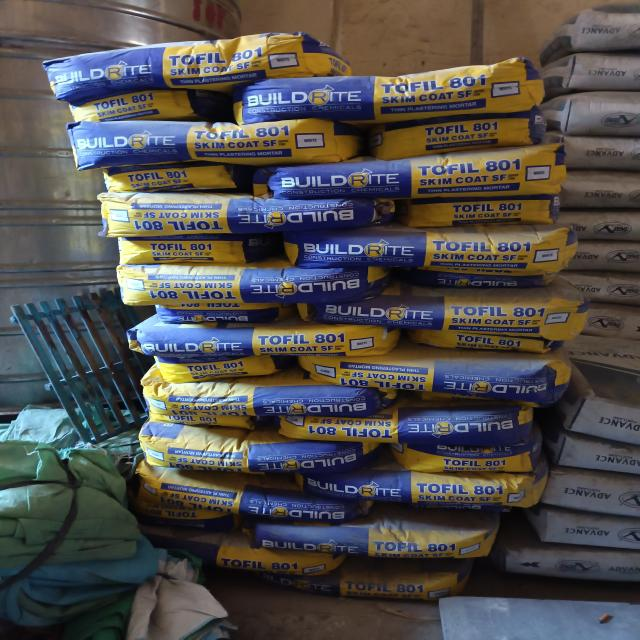Skim coat: (45, 47, 320, 92), (249, 75, 524, 119), (66, 116, 340, 160), (266, 161, 601, 196), (295, 238, 564, 276), (116, 268, 377, 302), (318, 296, 579, 330), (130, 323, 389, 357), (304, 356, 563, 390), (143, 384, 402, 418), (290, 410, 549, 444), (131, 434, 390, 468), (141, 475, 366, 512), (268, 515, 493, 552), (93, 202, 369, 232), (303, 463, 528, 499), (370, 123, 525, 159), (344, 557, 459, 603), (202, 533, 317, 578), (398, 198, 555, 230), (107, 161, 233, 197), (114, 236, 250, 269), (99, 165, 234, 198), (72, 91, 198, 126), (405, 441, 547, 469), (419, 330, 551, 354), (152, 304, 280, 325)
